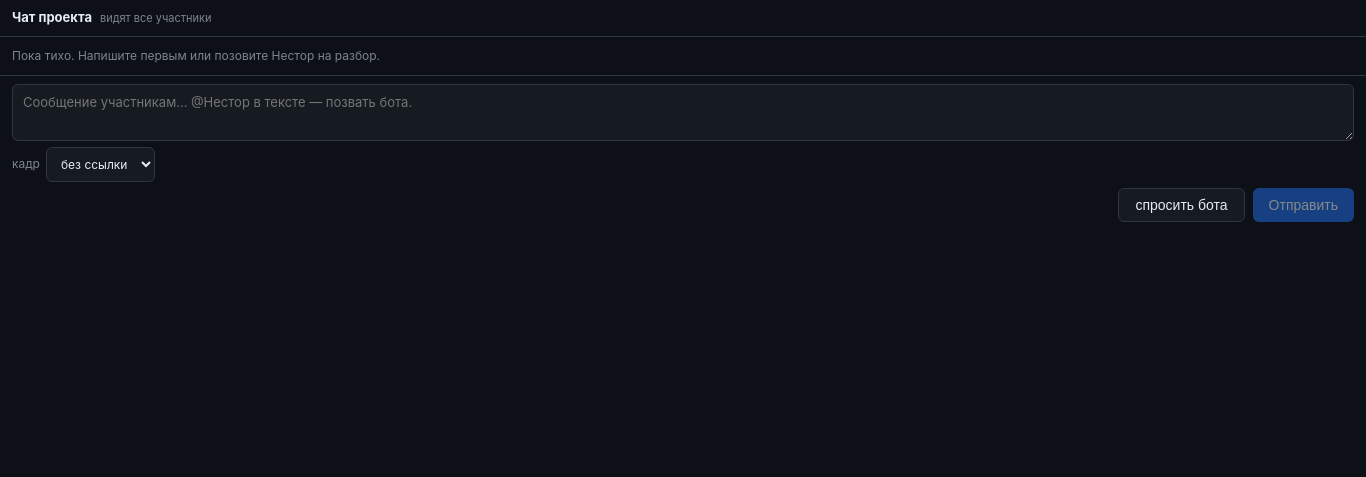
it: ProjectChat › отправляет сообщение и показывает ответ Нестора
Type "Нестор, что думаешь?" into the text box named "Сообщение в чат проекта" at [683, 112], box x1=12 y1=84 x2=1354 y2=140
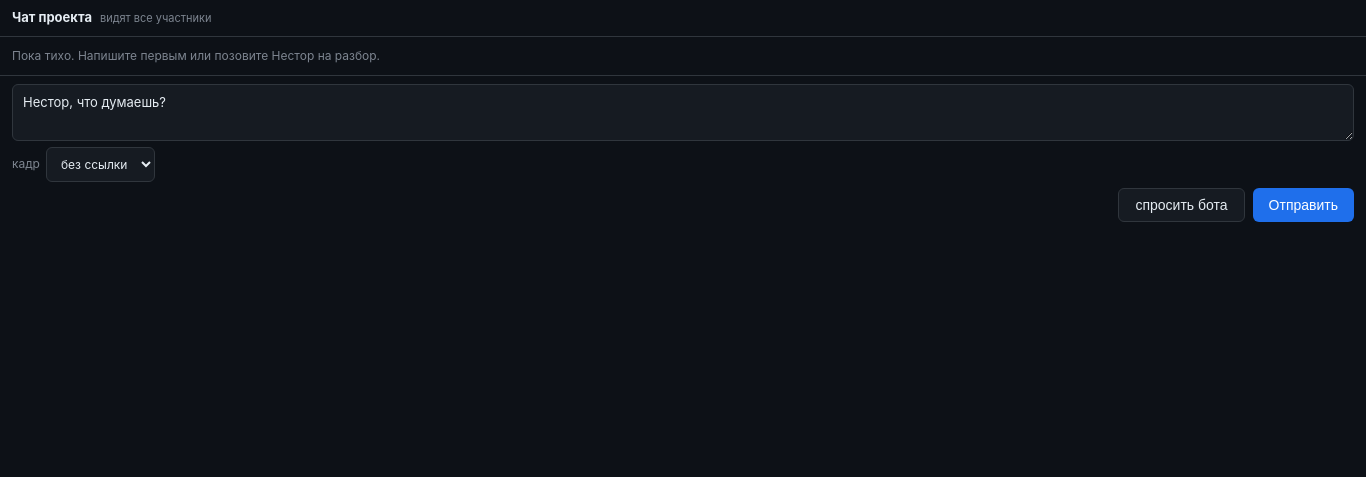
Click the button "спросить бота" at [1182, 204], box x1=1118 y1=188 x2=1245 y2=222
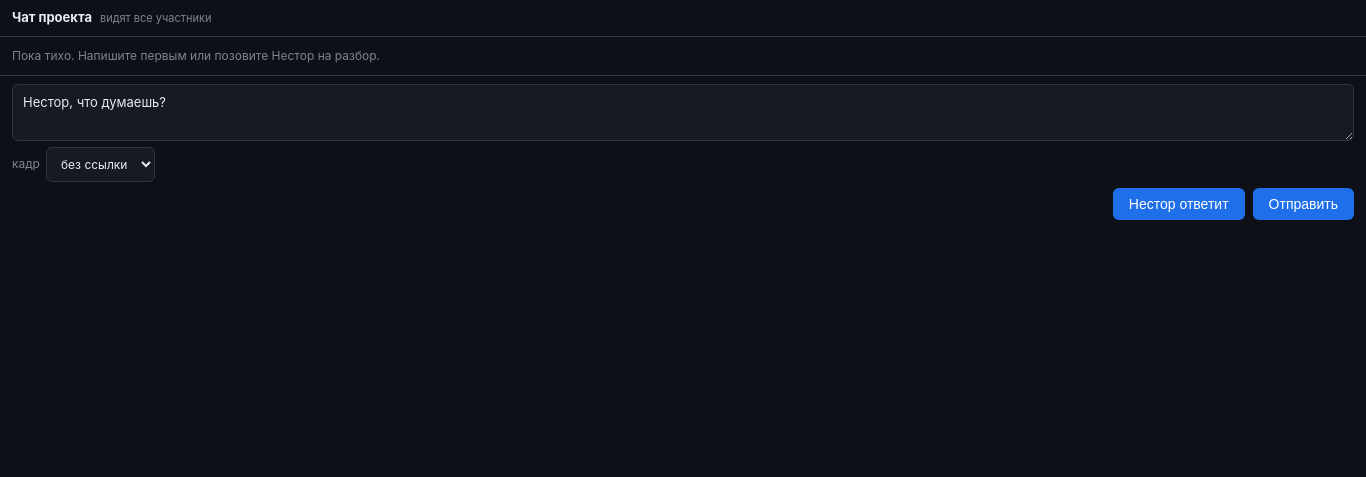
Click the button "Отправить" at [1303, 204], box x1=1253 y1=188 x2=1354 y2=220
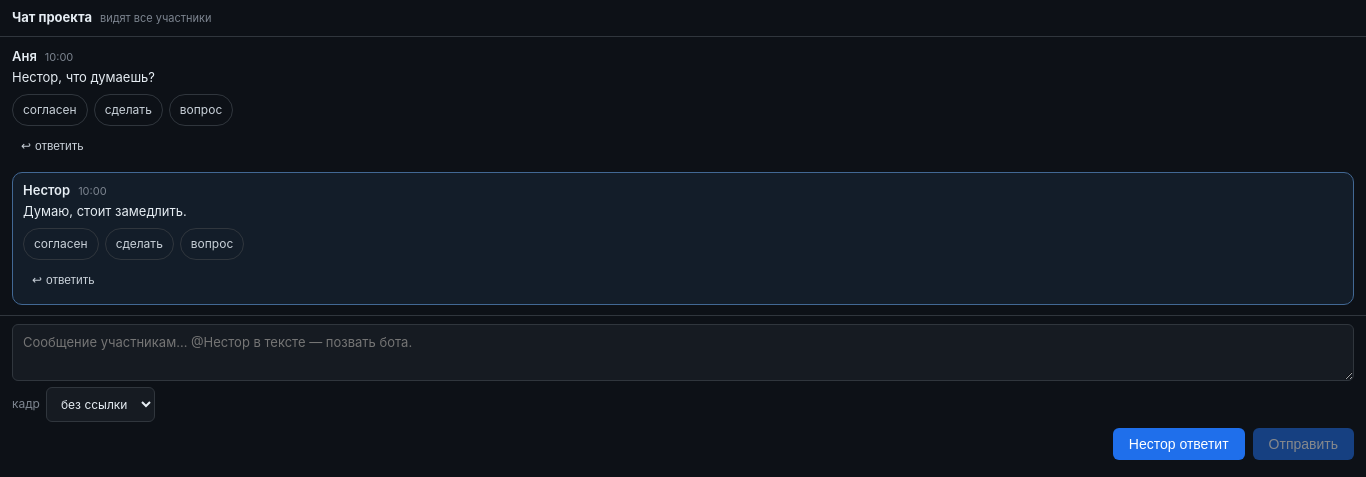
Expected: the text "Думаю, стоит замедлить." is shown, x1=23 y1=203 x2=187 y2=219
Expected: the text box named "Сообщение в чат проекта" is empty, x1=12 y1=324 x2=1354 y2=380
